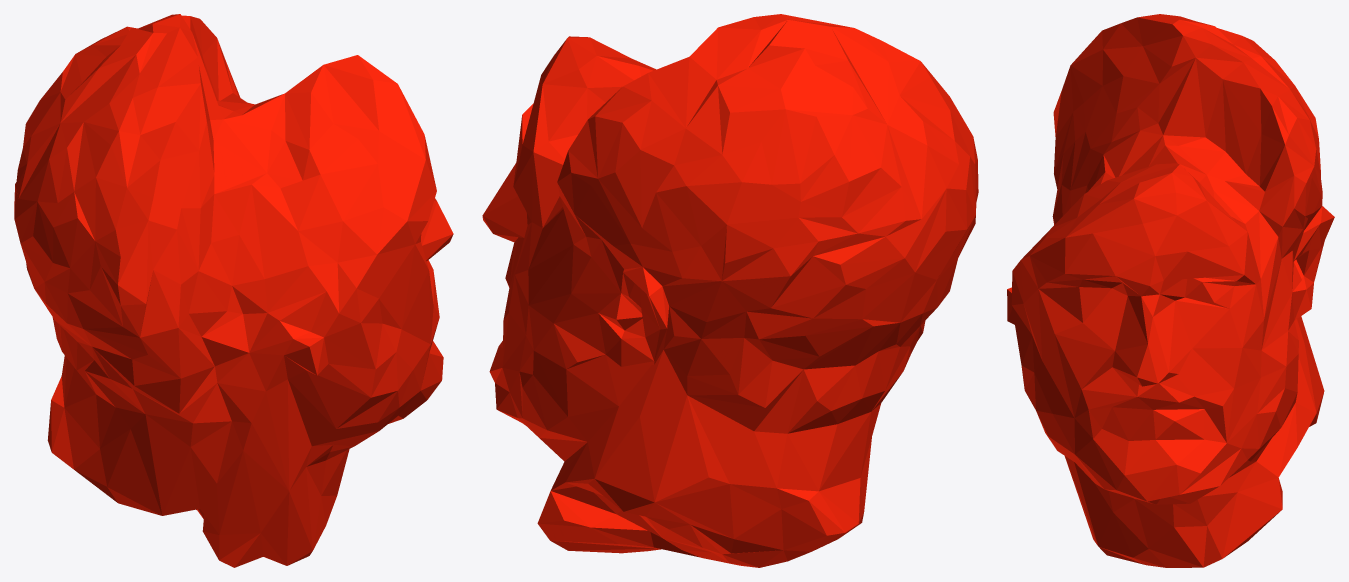
3 renders of one model, left to right at view 1: azimuth 30°, elevation 25°; view 2: azimuth 150°, elevation 25°; view 3: azimuth 270°, elevation 25°, orthographic. The views are drawn at different scales.
Parts seen in each view (by area): view 1: Object; view 2: Object; view 3: Object.
Part boxes in pixels (bbox=[...]): Object: bbox=[14, 14, 453, 567]; Object: bbox=[482, 14, 978, 567]; Object: bbox=[1007, 14, 1334, 567].
Size of the model in its own units: 2.8 by 3.39 by 2.08.
